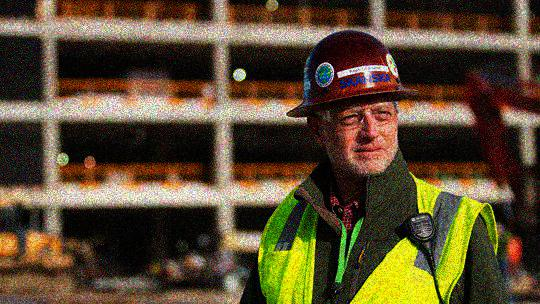helmet: (284, 29, 419, 174)
